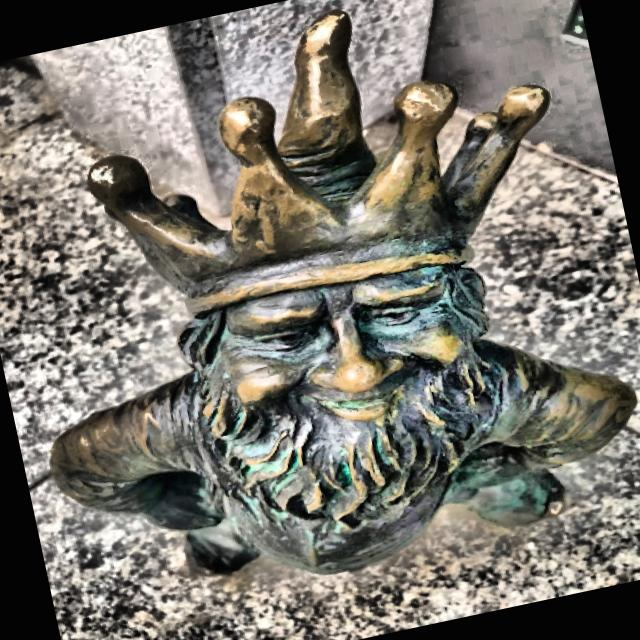Koronus: (46, 11, 638, 576)
